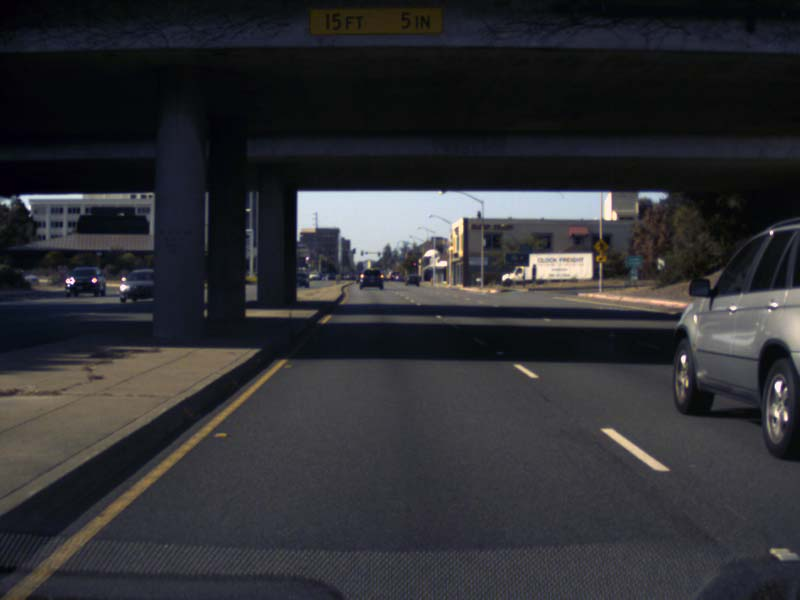Red: (412, 262, 416, 267)
